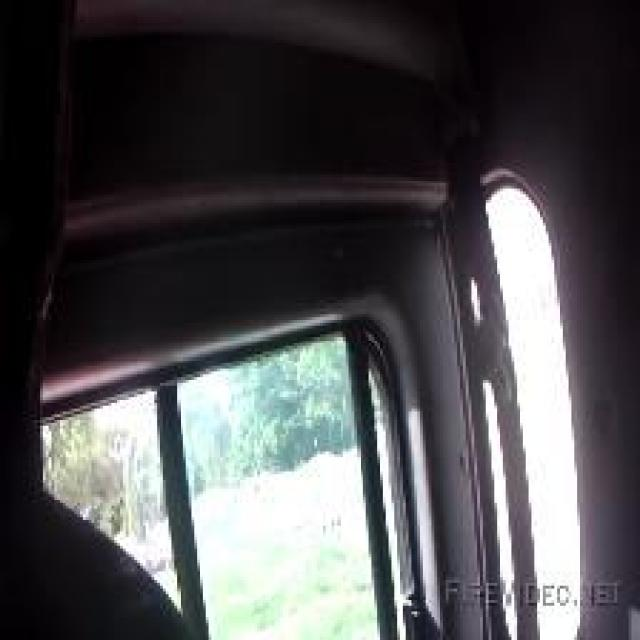other: (474, 185, 569, 579), (150, 479, 349, 533), (96, 386, 239, 434)
